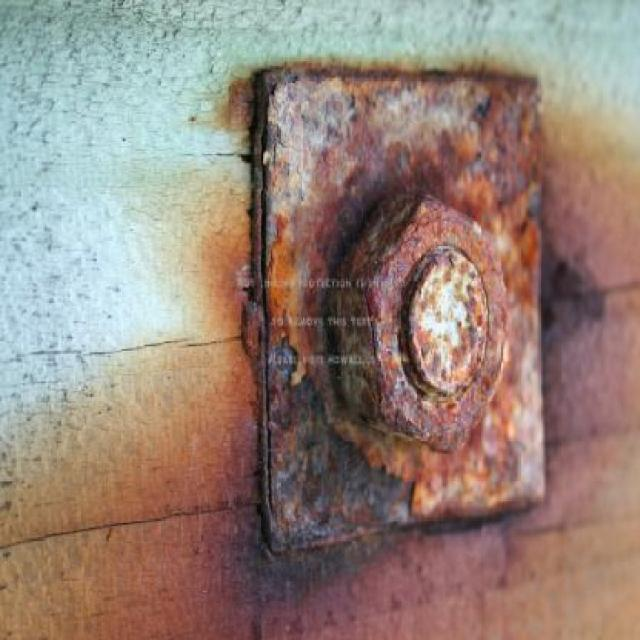corrosion: (254, 58, 552, 553)
